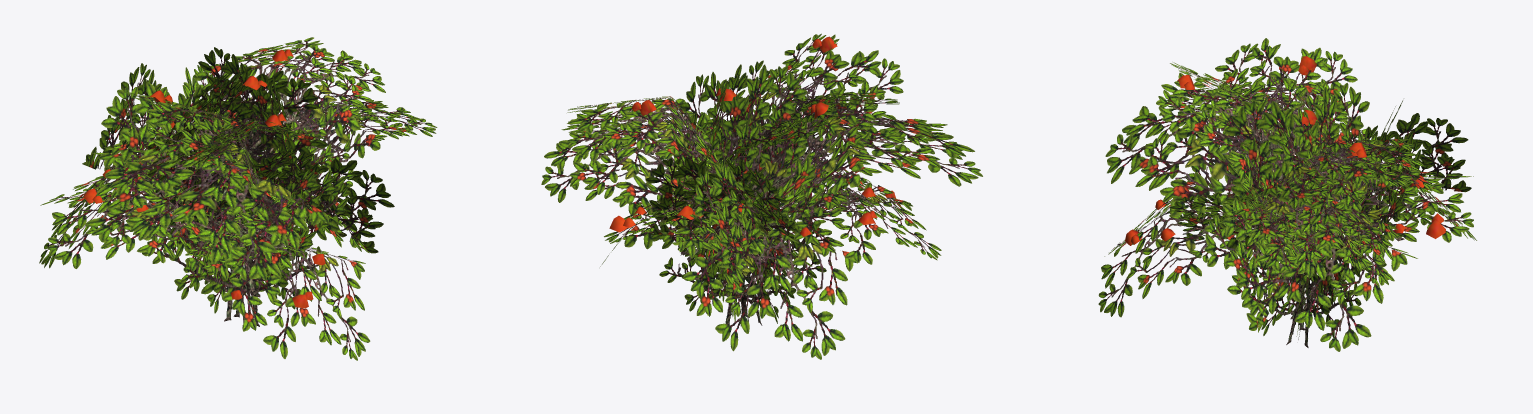
File: berry_bush_02.glb
The picture shows the model from 3 angles, left to right: view 1: azimuth 30°, elevation 25°; view 2: azimuth 150°, elevation 25°; view 3: azimuth 270°, elevation 25°; orthographic projection. The views are drawn at different scales.
Visible parts, largest first — view 1: berry_bush_02; view 2: berry_bush_02; view 3: berry_bush_02.
Boxes of the visible parts, box(x1,y1,x2,y2) form: berry_bush_02: box(39, 37, 437, 360); berry_bush_02: box(541, 33, 982, 359); berry_bush_02: box(1098, 38, 1476, 351).
Size of the model in its own units: 9.55 by 6.14 by 8.49.
1 material, 1 textured.
